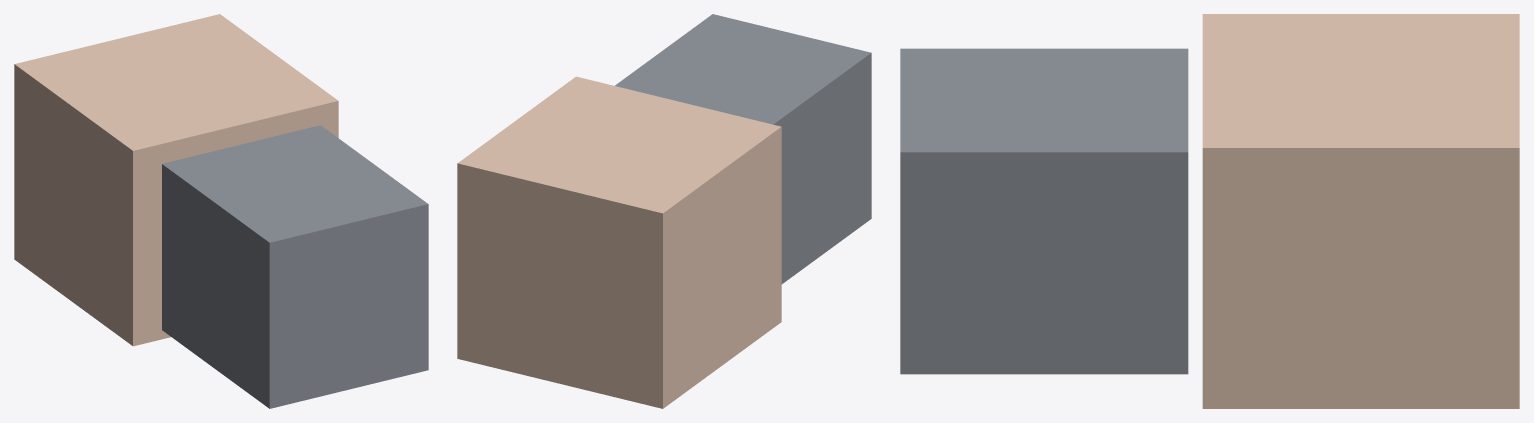
File: hand.glb
3 renders of one model, left to right at view 1: azimuth 30°, elevation 25°; view 2: azimuth 150°, elevation 25°; view 3: azimuth 270°, elevation 25°, orthographic. The views are drawn at different scales.
Parts seen in each view (by area): view 1: WristBlock, FistBlock; view 2: FistBlock, WristBlock; view 3: FistBlock, WristBlock.
Part boxes in pixels (x1,y1,x2,y2): WristBlock: [162, 125, 428, 408]; FistBlock: [14, 14, 338, 346]; FistBlock: [457, 76, 781, 408]; WristBlock: [615, 14, 871, 284]; FistBlock: [1202, 14, 1519, 408]; WristBlock: [900, 48, 1188, 374].
Size of the model in its own units: 0.11 by 0.1 by 0.215.
